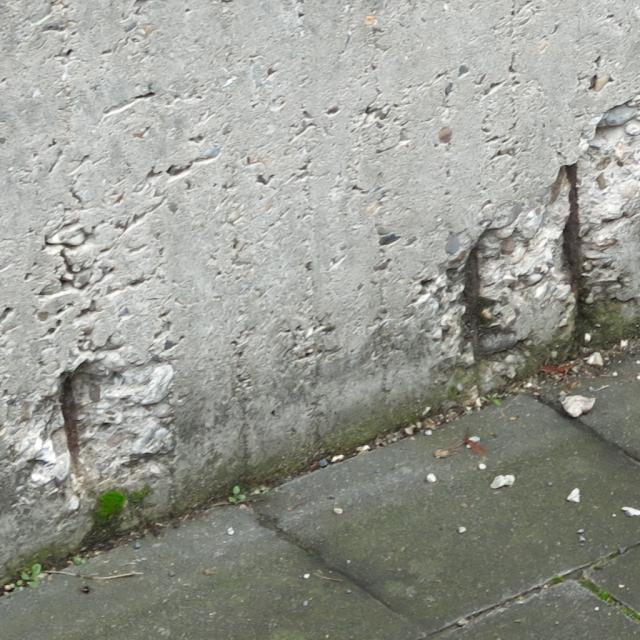D0w0: (438, 102, 639, 365)
